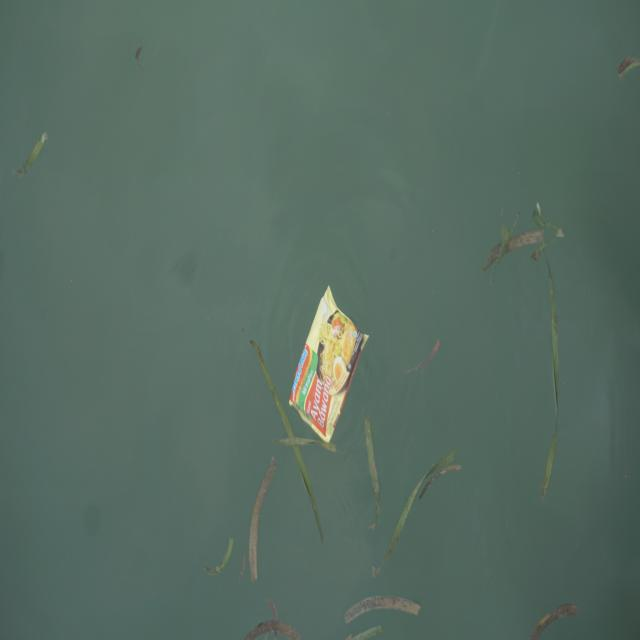Bungkus Makanan: (287, 283, 371, 448)
